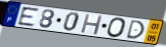0: (62, 12, 80, 32)
8: (39, 9, 56, 29)
D: (125, 19, 146, 40)
E: (17, 6, 41, 27)
H: (79, 13, 104, 36)
O: (106, 17, 127, 39)
